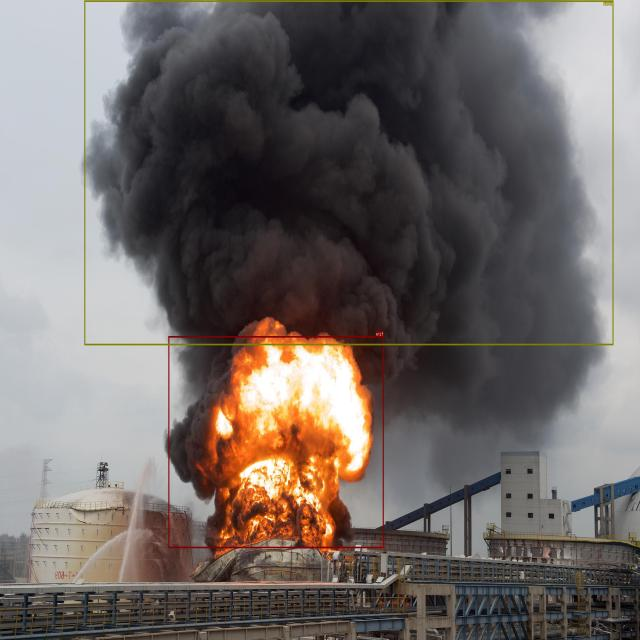fire: (169, 336, 384, 548)
smoke: (84, 0, 614, 345)
